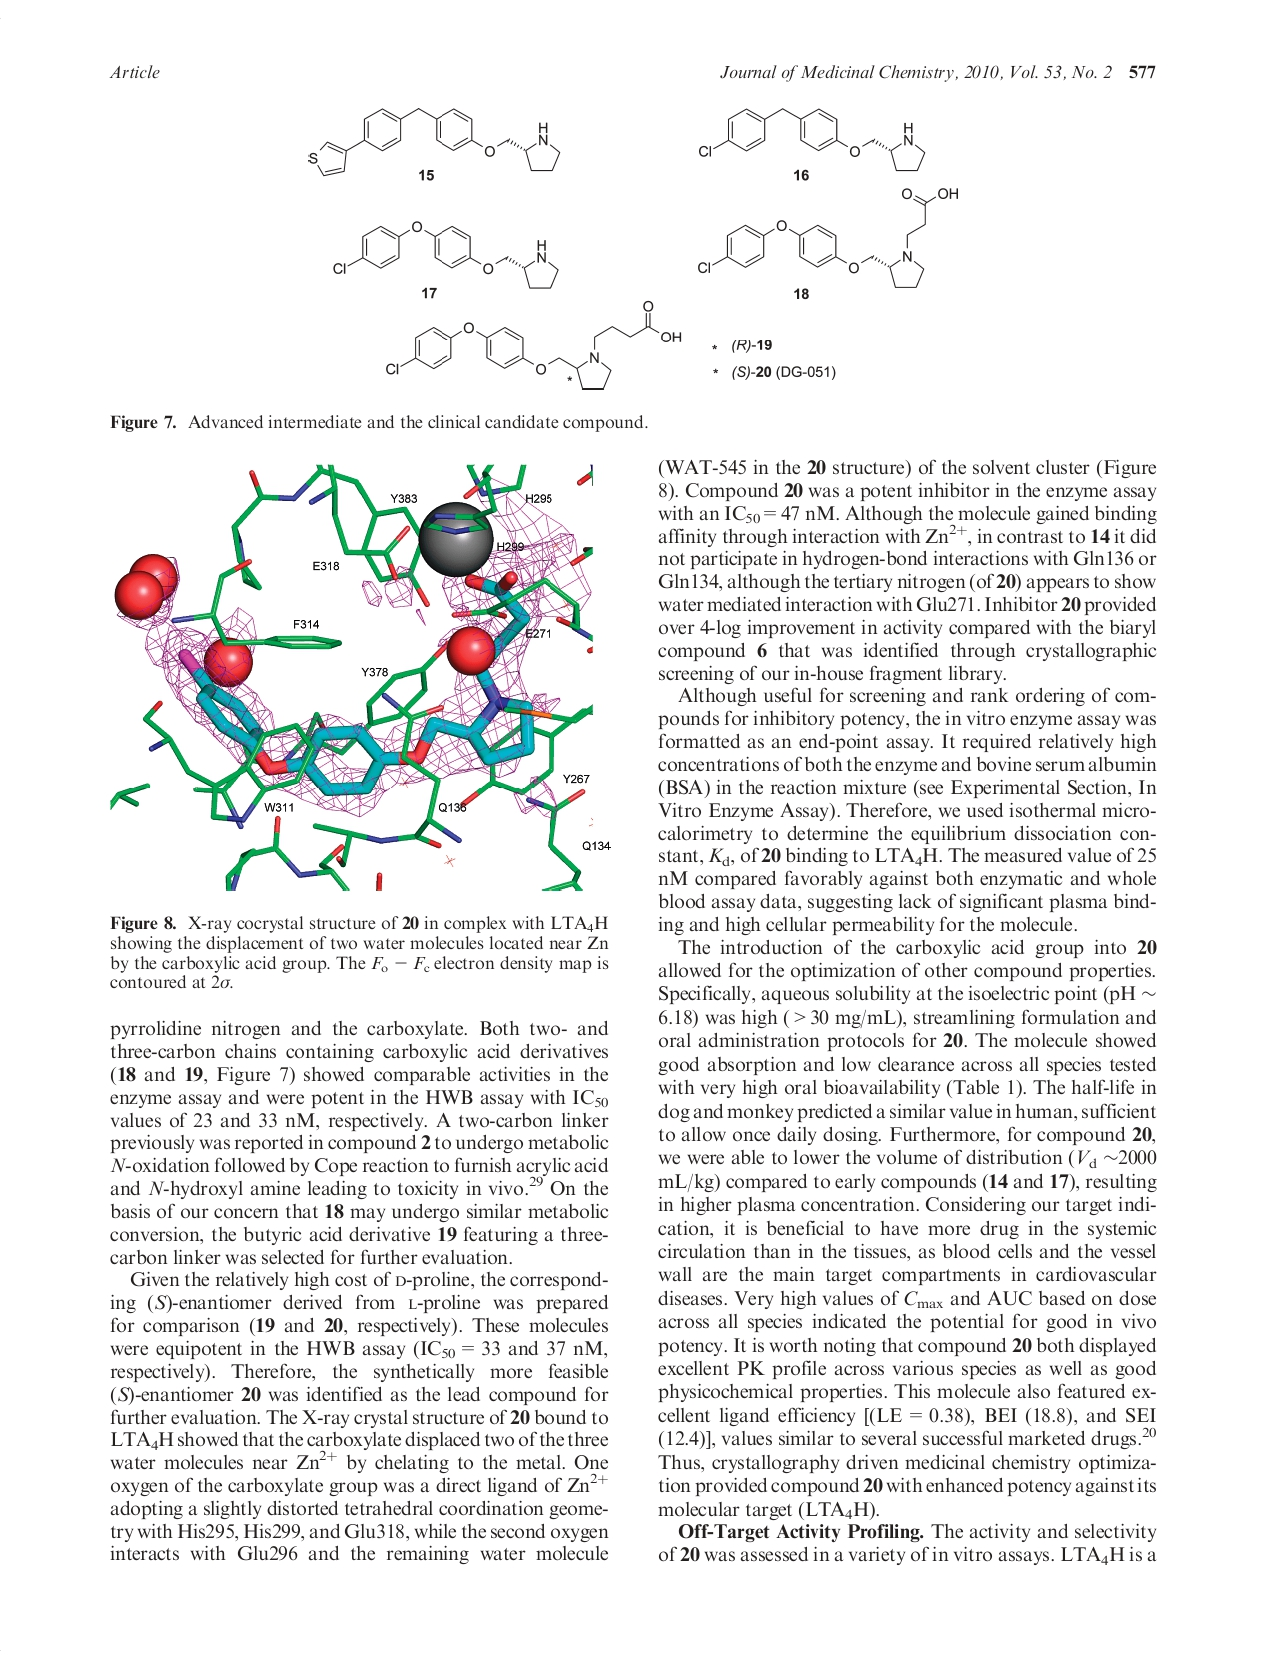exist_molecular: (698, 184, 961, 290), (383, 299, 684, 392), (305, 105, 563, 180), (334, 219, 561, 293), (698, 105, 928, 176)
